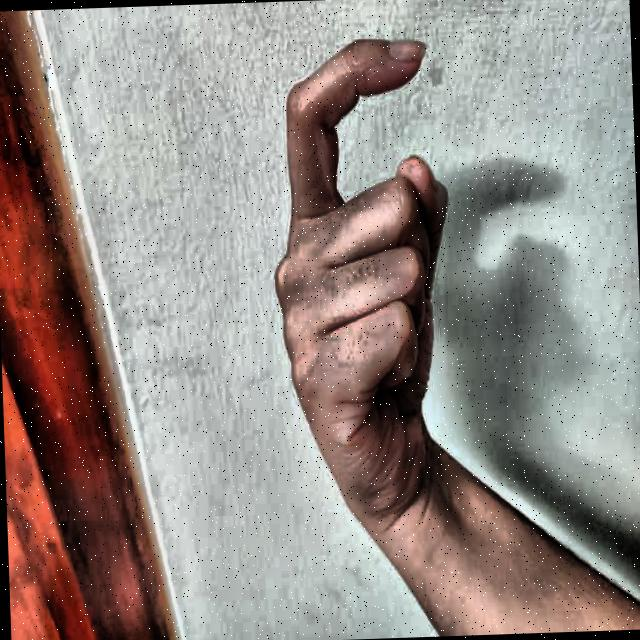E: (244, 6, 512, 516)
